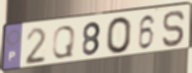2: (25, 26, 47, 66)
6: (138, 14, 156, 51)
8: (81, 20, 101, 58)
O: (106, 15, 134, 56)
Q: (50, 25, 77, 60)
S: (161, 9, 187, 48)
